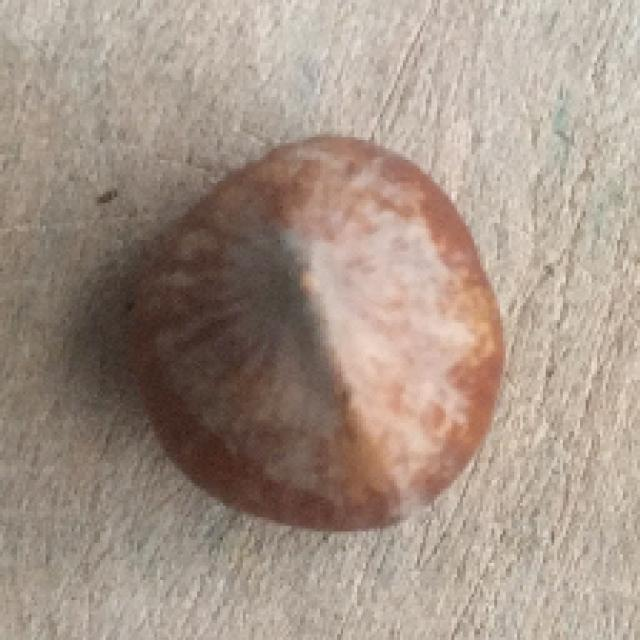qualityHazelnut: (128, 130, 506, 538)
